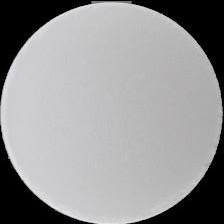49884-494: (0, 0, 224, 224)
